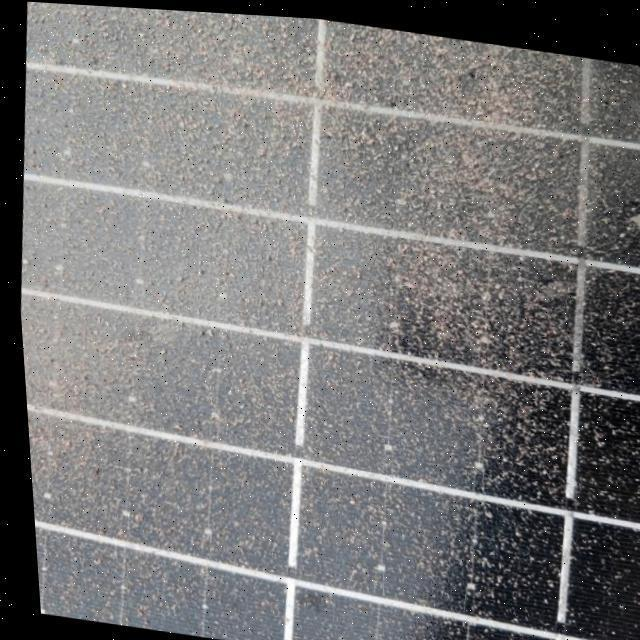Surface Contaminant: (42, 16, 640, 640)
